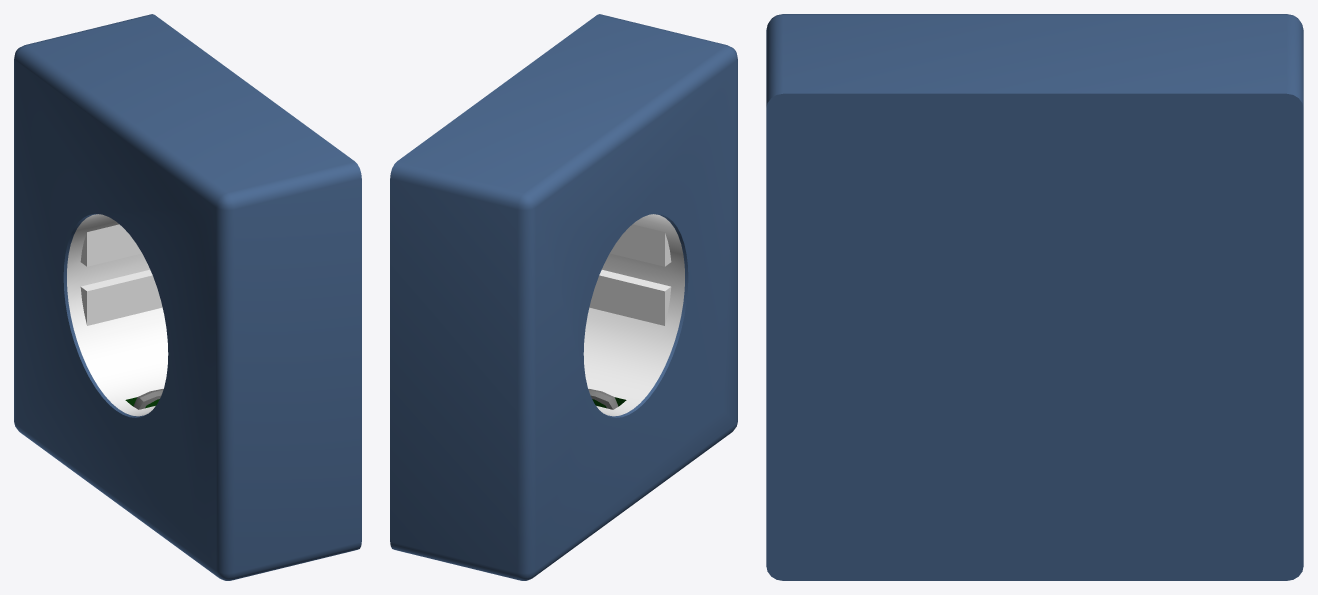
File: enchufe.fbx
The picture shows the model from 3 angles, left to right: view 1: azimuth 30°, elevation 25°; view 2: azimuth 150°, elevation 25°; view 3: azimuth 270°, elevation 25°; orthographic projection. The views are drawn at different scales.
Parts seen in each view (by area): view 1: Enchufe; view 2: Enchufe; view 3: Enchufe.
Part boxes in pixels (x1=…): Enchufe: x1=14, y1=14, x2=361, y2=580; Enchufe: x1=390, y1=14, x2=737, y2=580; Enchufe: x1=766, y1=14, x2=1303, y2=580.
Size of the model in its own units: 3.02 by 8.05 by 8.05.
